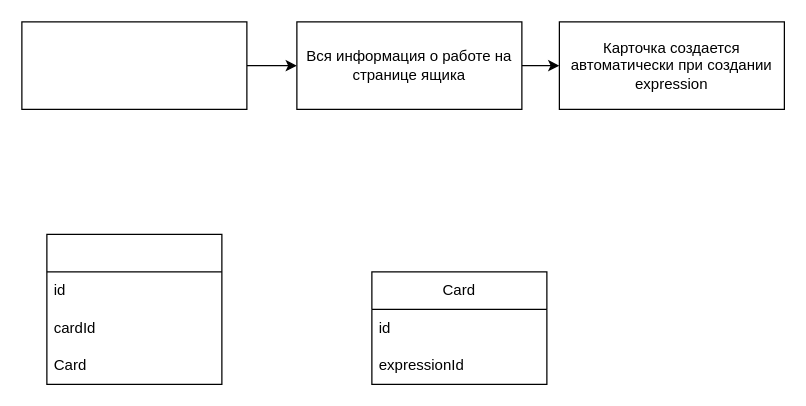
Image size: 806x406. Some labels were removed from this diagram. Each missing label, with the box of its shape:
Expression: (46, 233, 222, 384)
Там где редактирование expressions, карточка не нужна: (21, 21, 247, 109)
